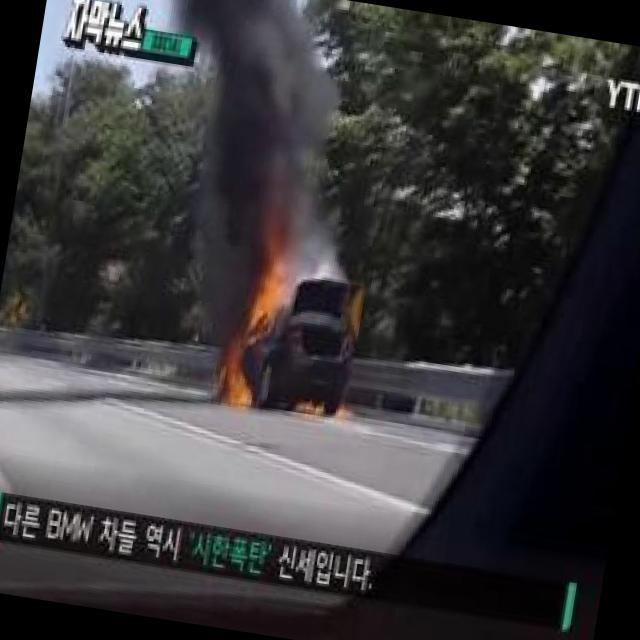Fire: (218, 206, 306, 412)
Smoke: (183, 0, 356, 216)
